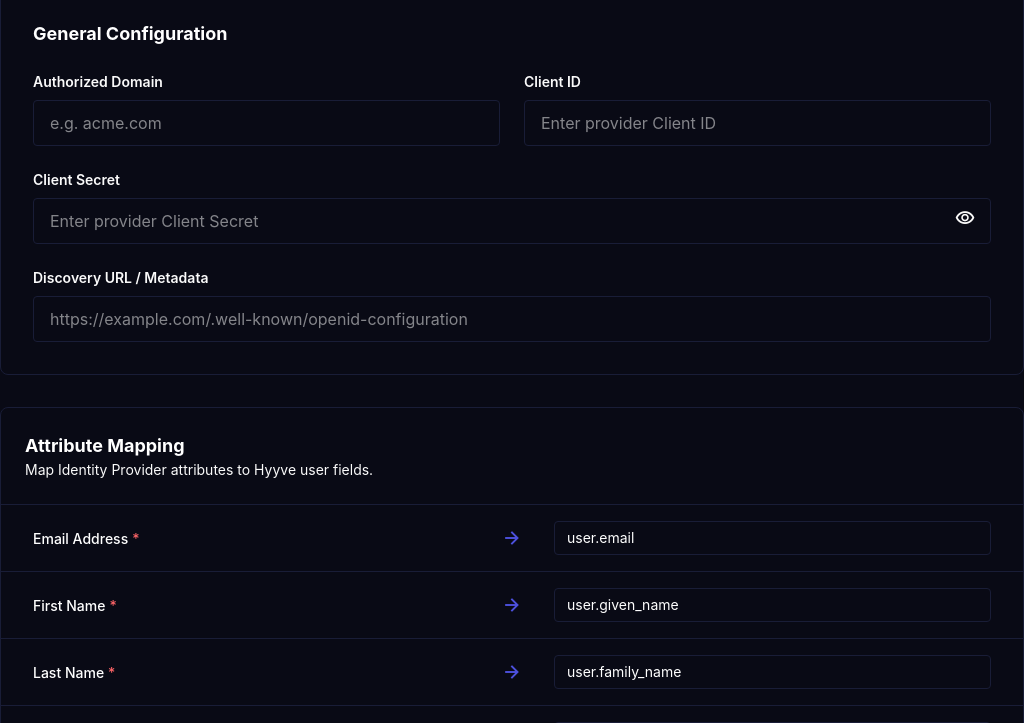
Test: SamlConfigForm › Form Validation › validates URL format for discovery URL
Type "not-a-valid-url" into the field labelled "Discovery URL / Metadata" at (512, 319), box [33,296,991,342]
(page scrolled)
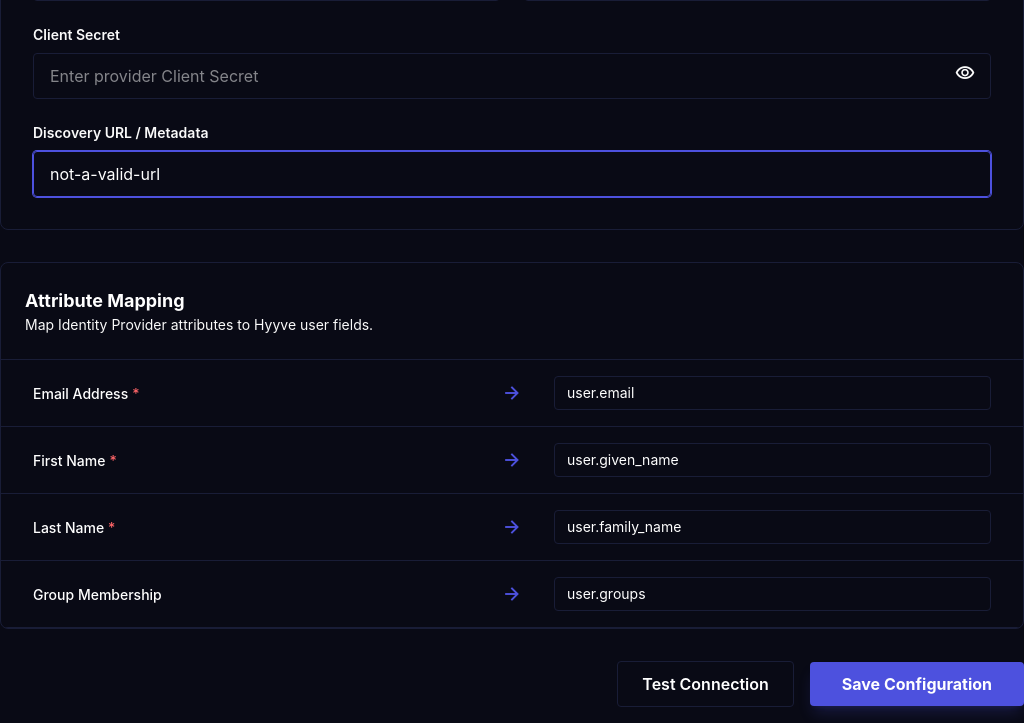
Click the button "Save Configuration" at (917, 684), box [810,662,1023,706]
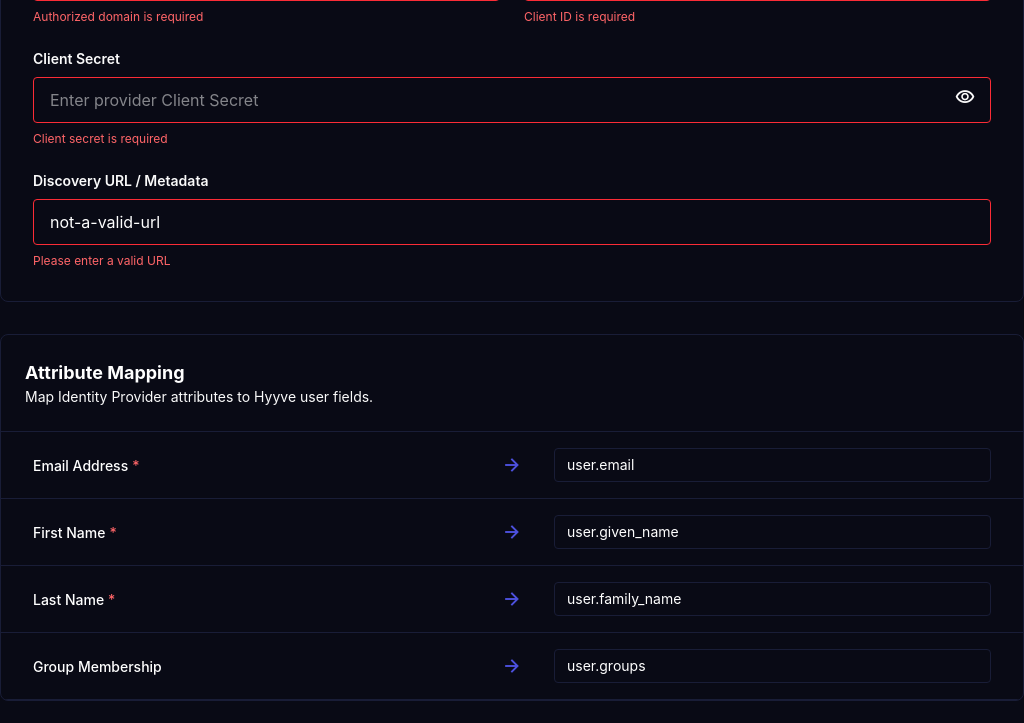
Expected: the text "Please enter a valid URL" is shown, [33,253,170,268]
